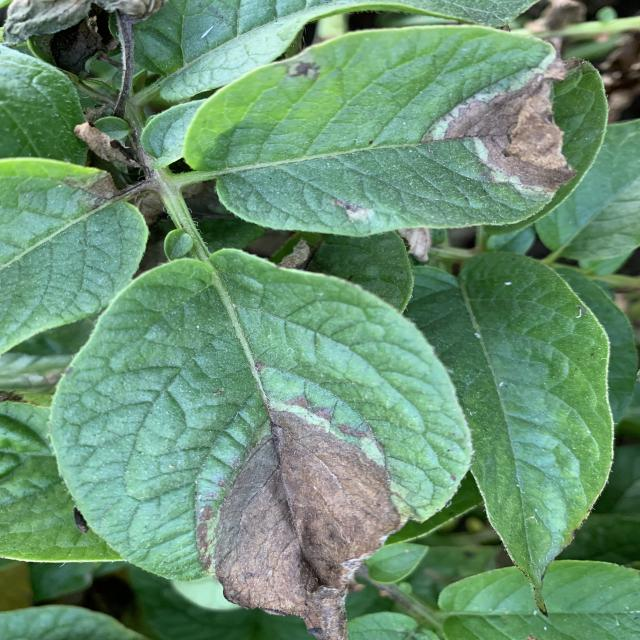lateblight: (212, 405, 403, 640), (422, 56, 575, 199)
